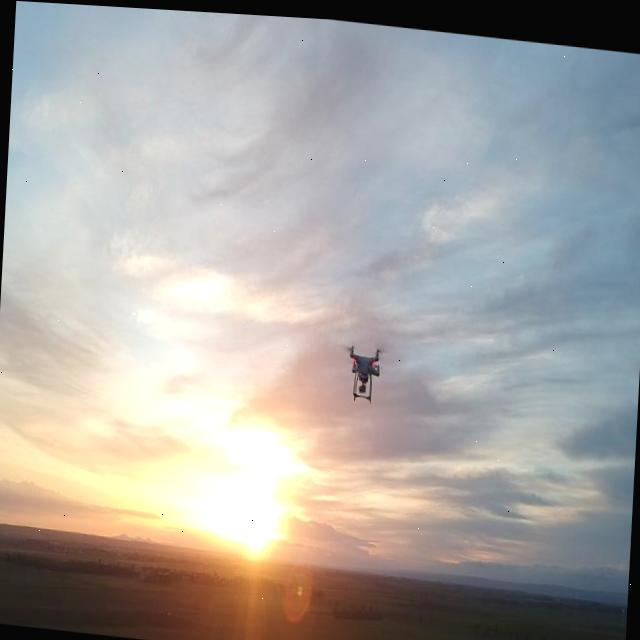drone: (342, 315, 390, 413)
